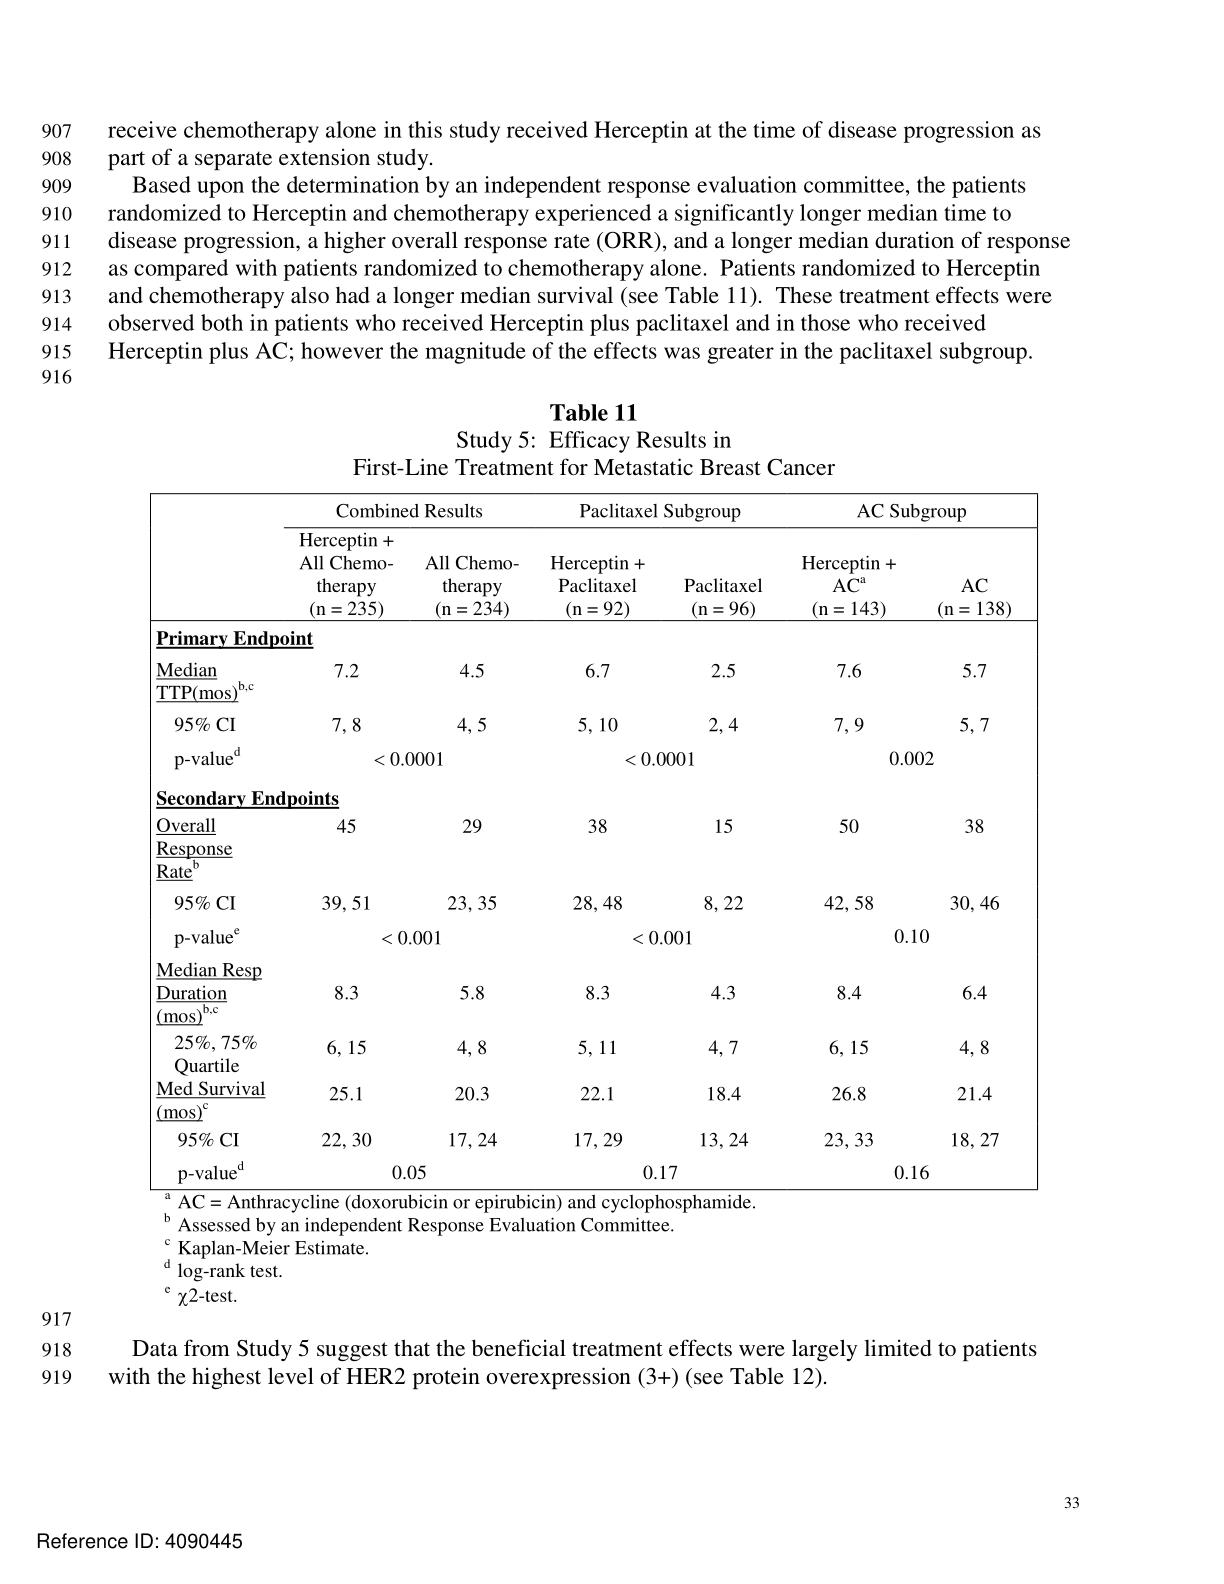partial_lined_merged_cells: (147, 491, 1041, 1194)
